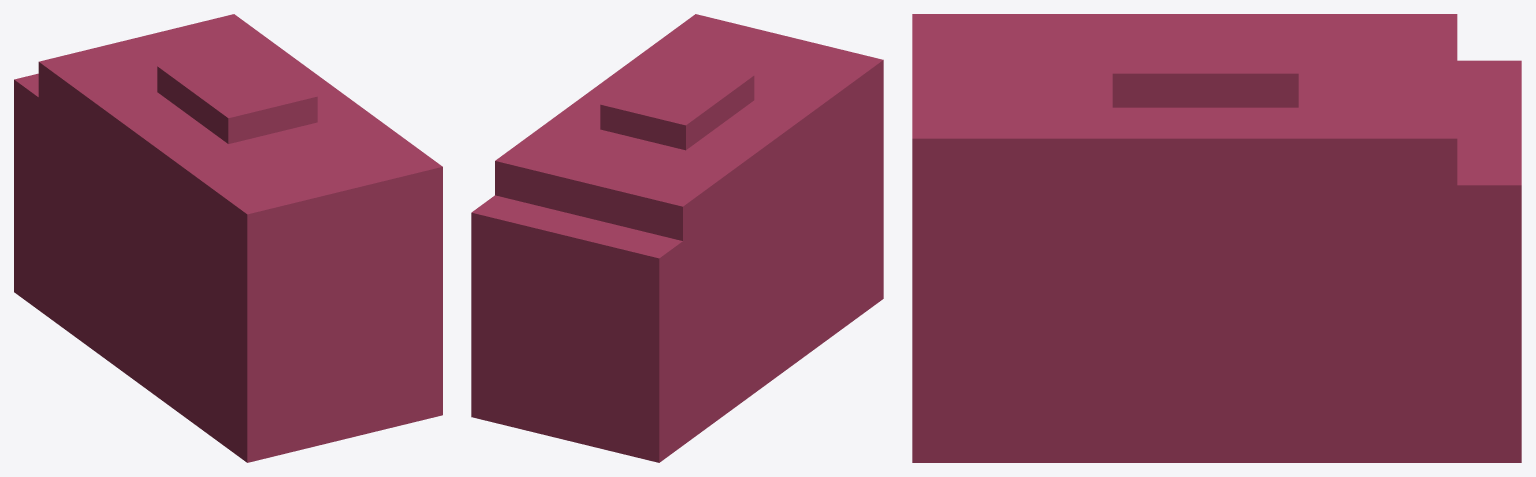
File: SM_V&A_Learning_Centre.fbx
The picture shows the model from 3 angles, left to right: view 1: azimuth 30°, elevation 25°; view 2: azimuth 150°, elevation 25°; view 3: azimuth 270°, elevation 25°; orthographic projection. The views are drawn at different scales.
Parts seen in each view (by area): view 1: SM_V&A_Learning_Centre; view 2: SM_V&A_Learning_Centre; view 3: SM_V&A_Learning_Centre.
Boxes of the visible parts, x1,y1,x2,y2 form: SM_V&A_Learning_Centre: (14,14,442,462); SM_V&A_Learning_Centre: (471,14,883,462); SM_V&A_Learning_Centre: (912,14,1521,462).
Bounding box in the file's own units: 27.72 × 37.19 × 57.3.
